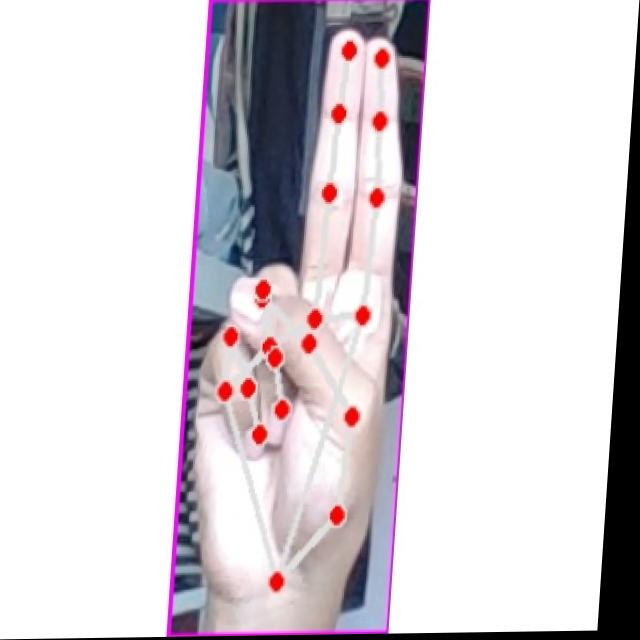U: (185, 28, 416, 612)
